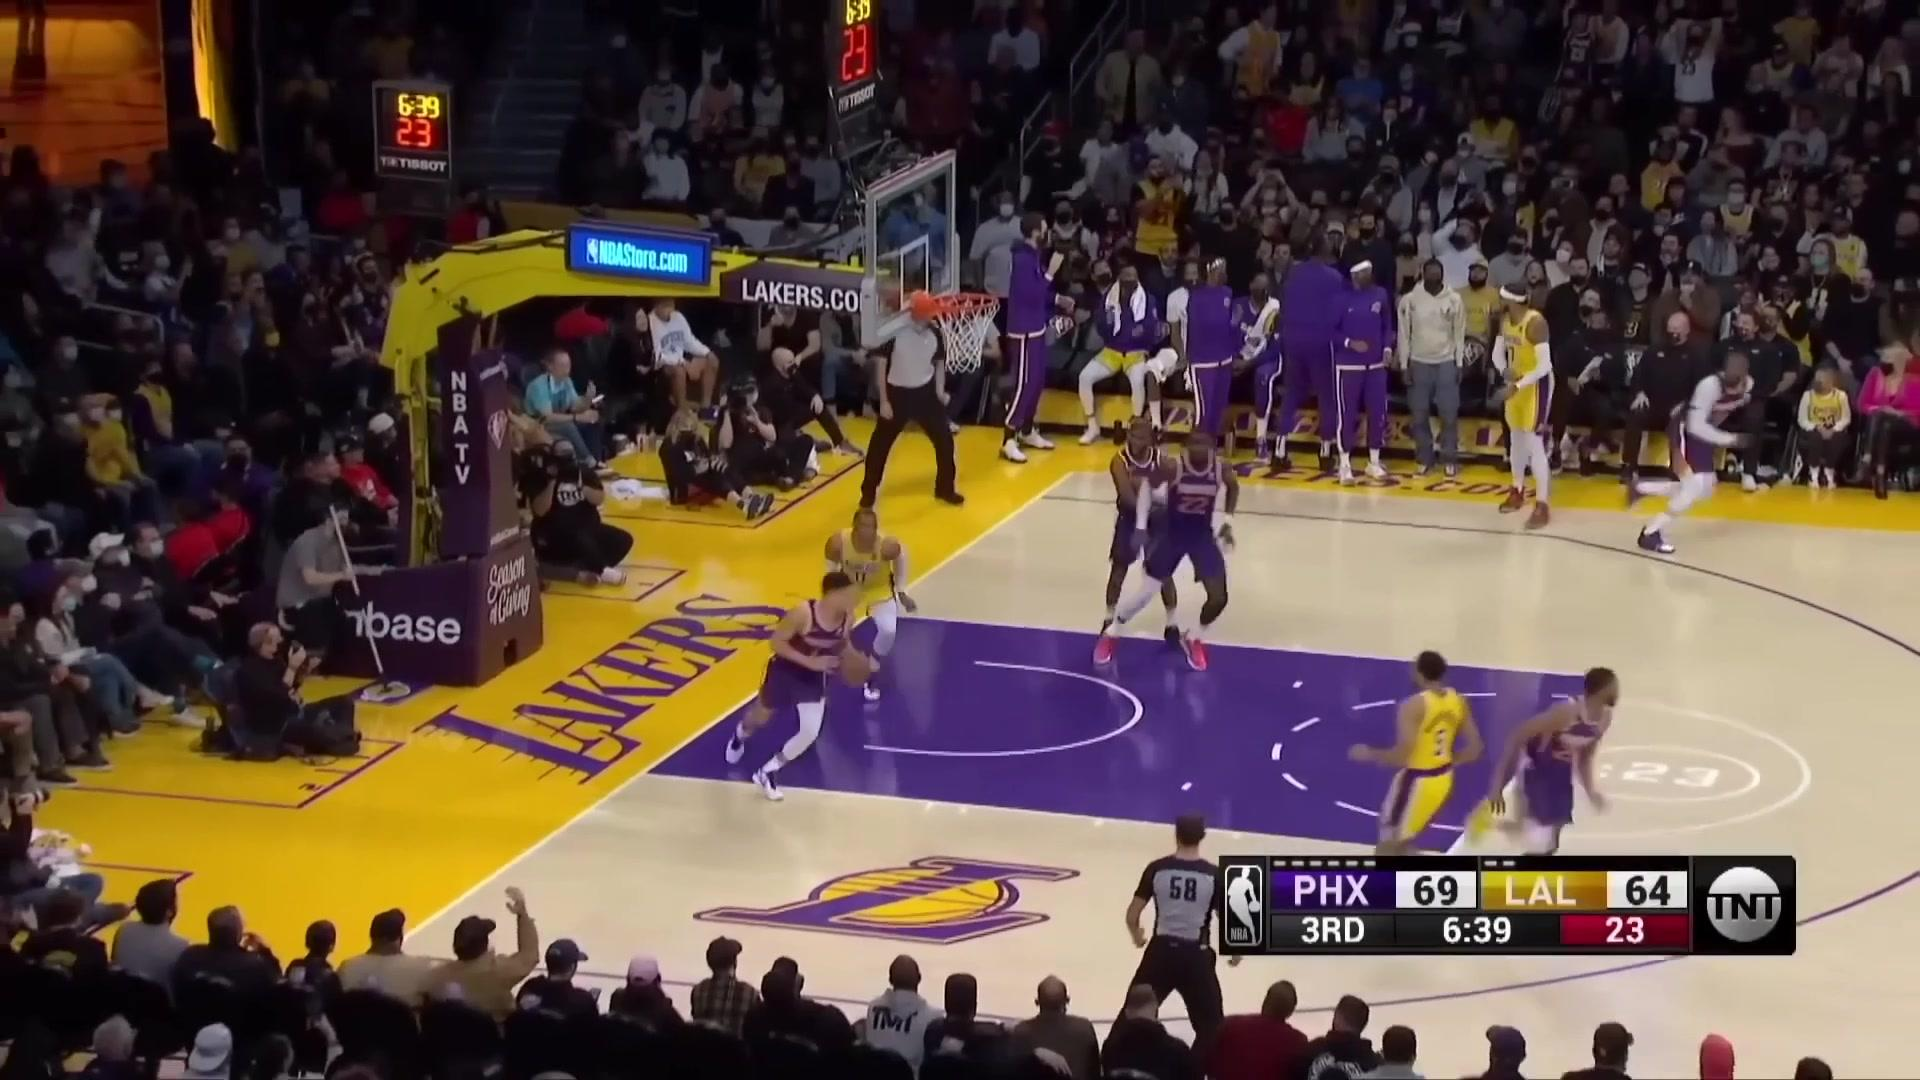no_foul: (748, 492, 938, 790)
